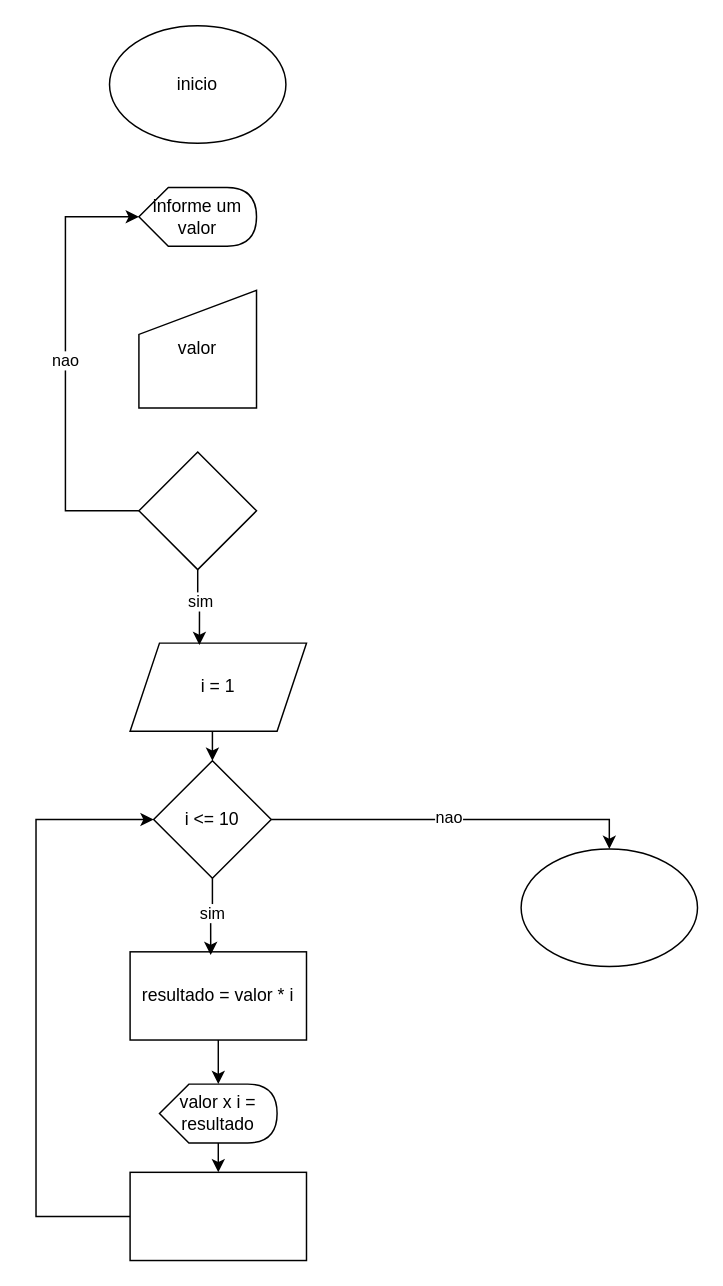
This 723x1286 diagram has some shape labels left out. Here are the shapes that lost their labels. From the top down, the centre of each, then its label:
pixel 197 510: valor é numérico?
pixel 609 907: fim
pixel 217 1216: i = i + 1
